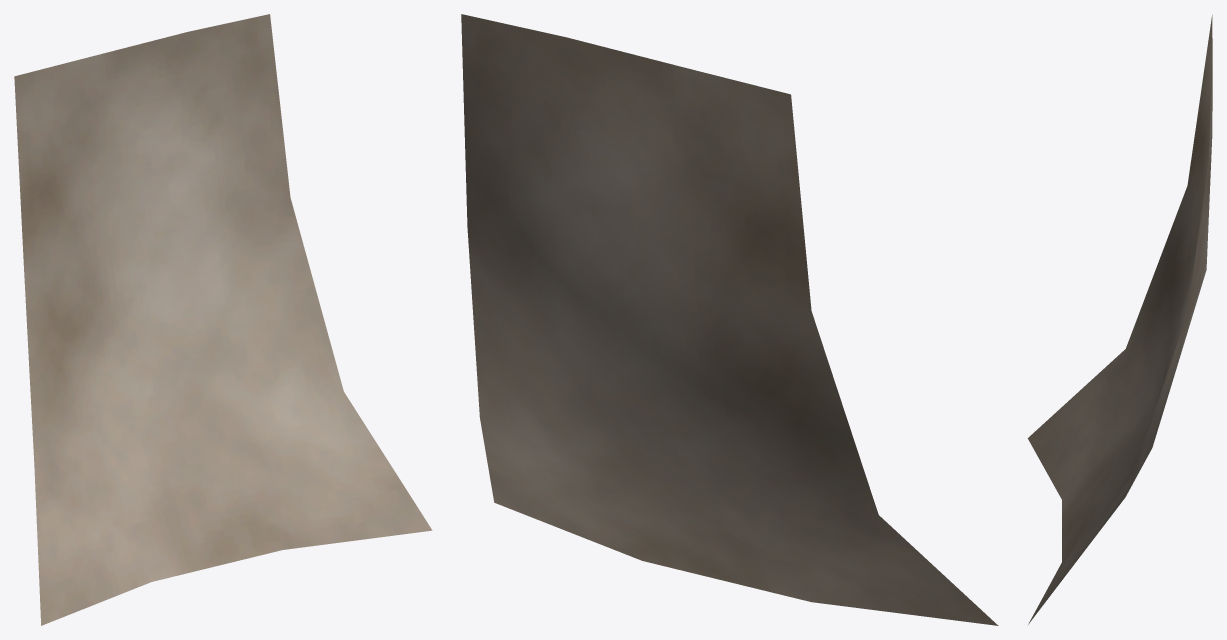
Rendered from web_03.fbx.
3 views of the same model, side by side, from view 1: azimuth 30°, elevation 25°; view 2: azimuth 150°, elevation 25°; view 3: azimuth 270°, elevation 25° (orthographic). The views are drawn at different scales.
Parts seen in each view (by area): view 1: web_03_mat; view 2: web_03_mat; view 3: web_03_mat.
Part boxes in pixels (x1,y1,x2,y2): web_03_mat: [14, 14, 432, 625]; web_03_mat: [461, 14, 998, 625]; web_03_mat: [1027, 15, 1212, 624].
Bounding box in the file's own units: 3.87 × 4.4 × 1.61.
